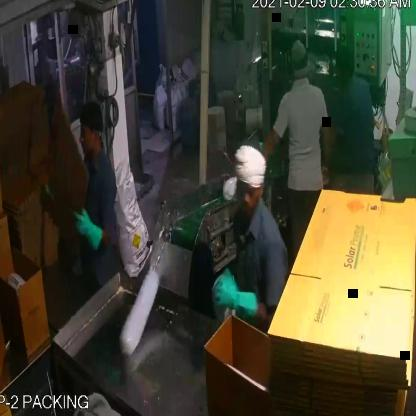glove: (209, 267, 265, 326), (64, 200, 106, 254)
no_glove: (252, 117, 284, 184), (319, 112, 341, 176)
